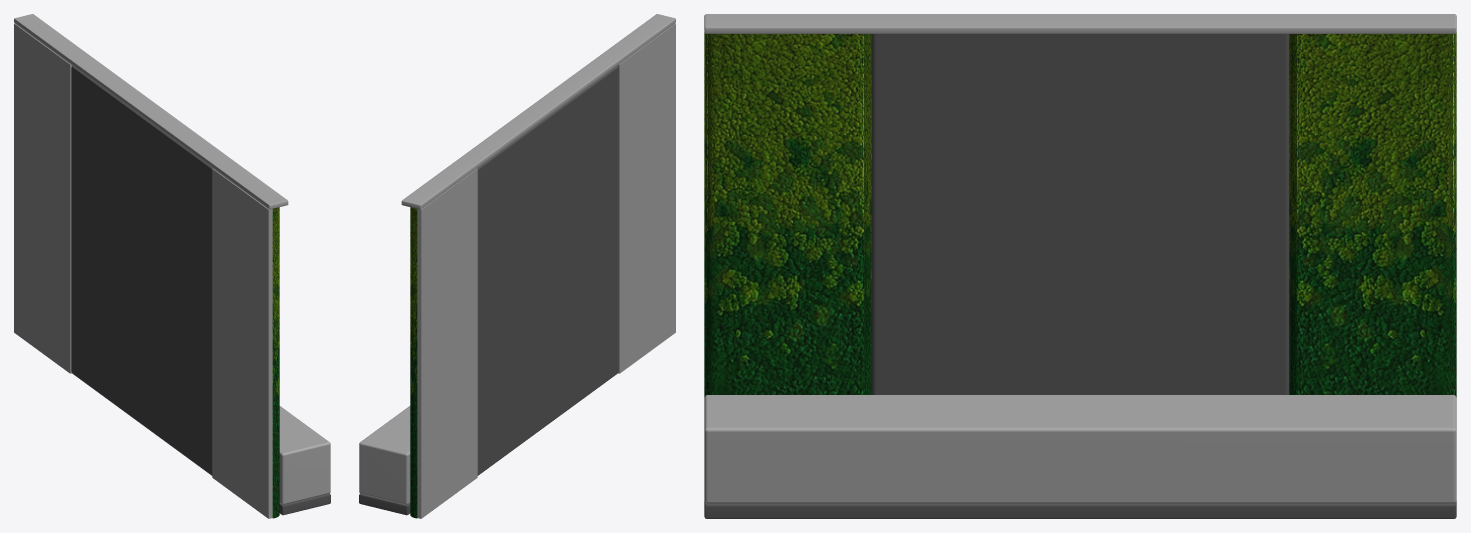
The model's file is tv_unit_waterWall.fbx.
3 renders of one model, left to right at view 1: azimuth 30°, elevation 25°; view 2: azimuth 150°, elevation 25°; view 3: azimuth 270°, elevation 25°, orthographic. The views are drawn at different scales.
Parts seen in each view (by area): view 1: middle, side_back (×2), top, bottom_second, side_moss, bootom_first; view 2: middle, side_back (×2), top, bottom_second, side_moss, bootom_first; view 3: middle, side_moss (×2), bottom_second, top, bootom_first.
Part boxes in pixels (x1,y1,x2,y2): middle: (71, 66, 212, 475); side_back (×2): (14, 23, 272, 518); top: (14, 14, 288, 209); bottom_second: (279, 406, 330, 504); side_moss: (272, 207, 279, 518); bootom_first: (279, 493, 330, 515); middle: (477, 66, 618, 475); side_back (×2): (417, 23, 675, 518); top: (401, 14, 675, 209); bottom_second: (359, 406, 410, 504); side_moss: (410, 207, 417, 518); bootom_first: (359, 493, 410, 515); middle: (871, 34, 1289, 394); side_moss (×2): (704, 32, 1456, 397); bottom_second: (704, 395, 1456, 503); top: (704, 14, 1456, 33); bootom_first: (704, 501, 1456, 518).
Bounding box in the file's own units: 63.34 × 305 × 450.
4 materials, 1 textured.
